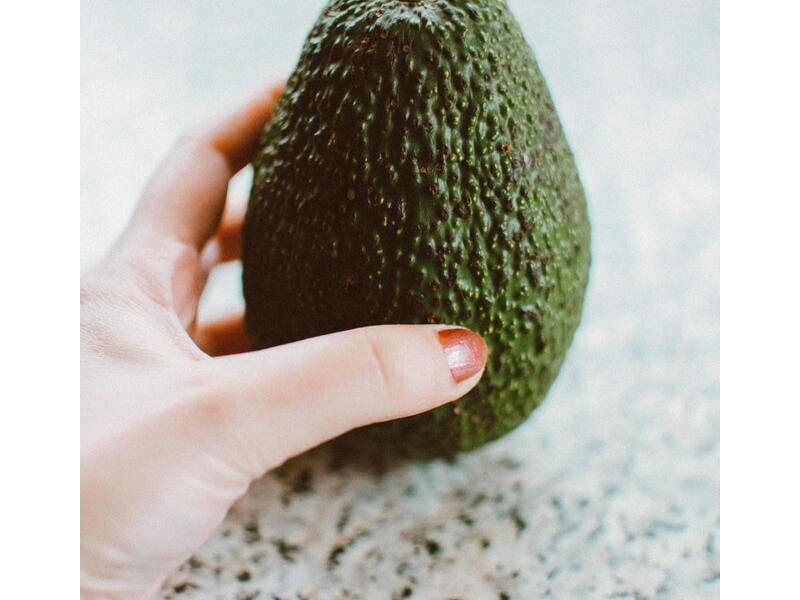abacate: (242, 3, 610, 475)
